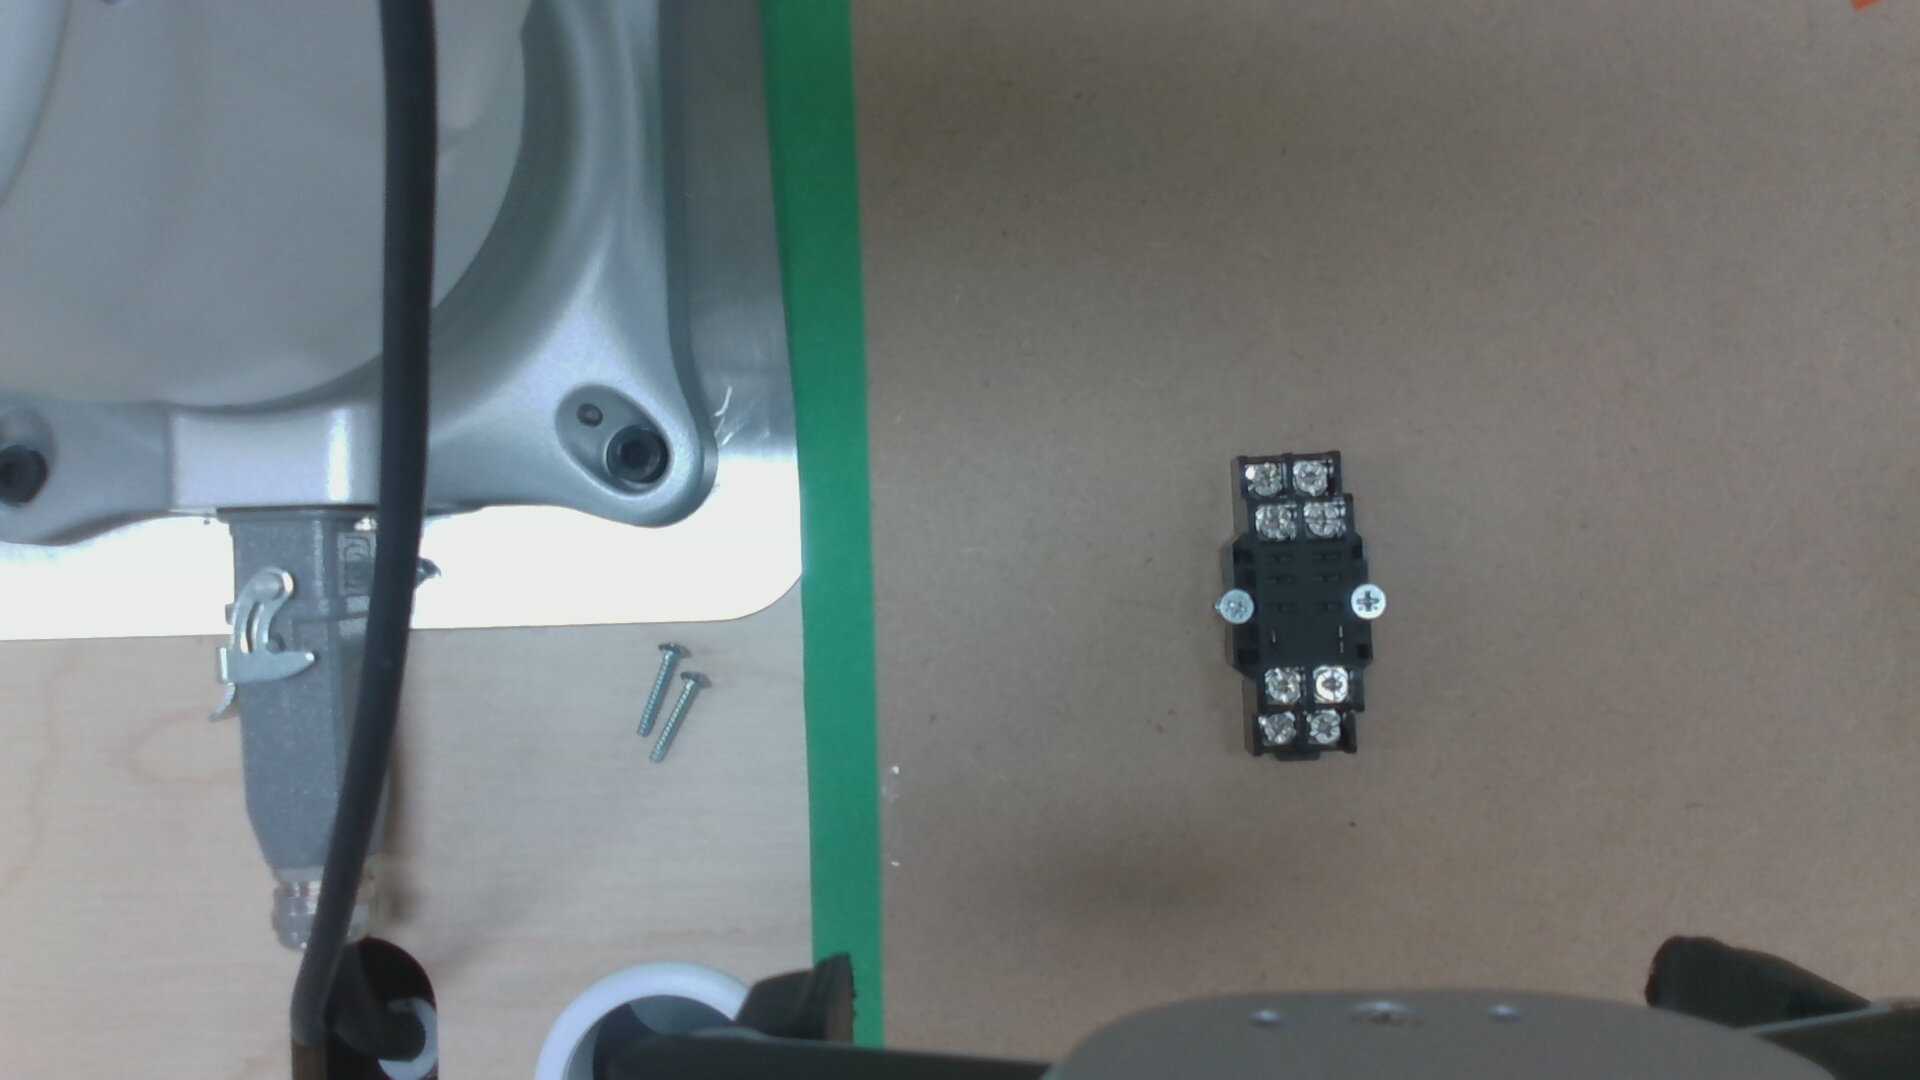relay 3: (1294, 463, 1328, 493)
relay 4: (1247, 465, 1284, 495)
relay 5: (1307, 712, 1342, 742)
relay 6: (1259, 713, 1296, 744)
relay 7: (1312, 669, 1346, 702)
relay 8: (1265, 670, 1302, 702)
